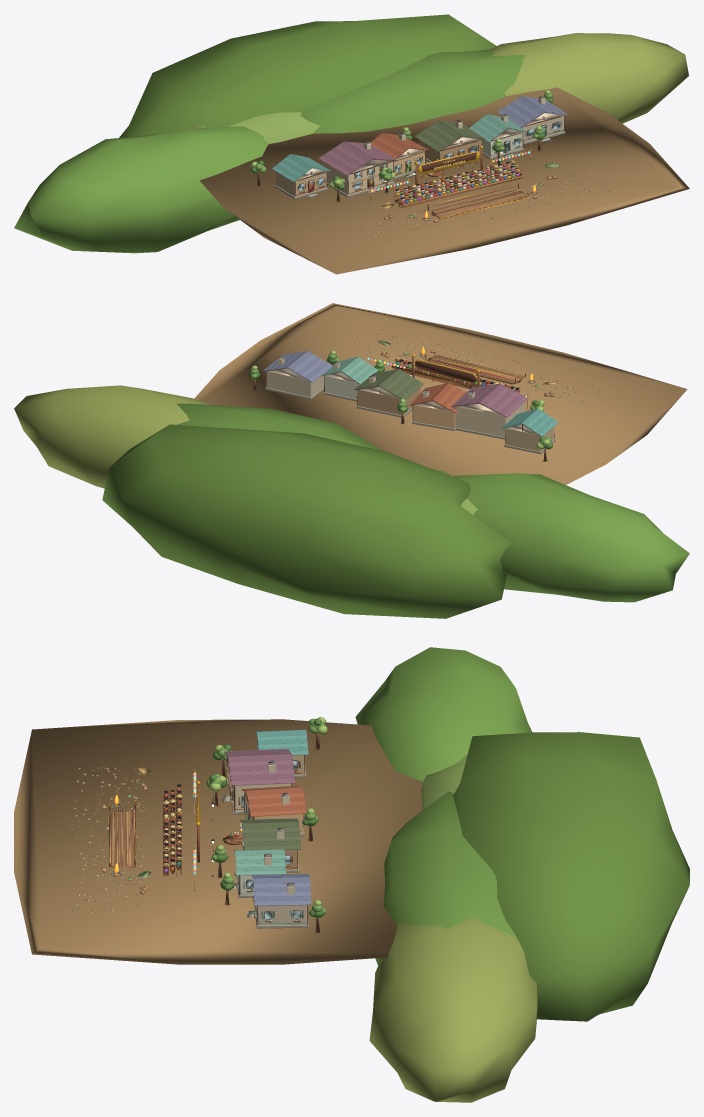
File: plaza.glb
The picture shows the model from 3 angles, top to bottom: view 1: azimuth 30°, elevation 25°; view 2: azimuth 150°, elevation 25°; view 3: azimuth 270°, elevation 25°; orthographic projection. The views are drawn at different scales.
Visible parts, largest first — view 1: estatico 0, estatico 2, estatico 1; view 2: estatico 0, estatico 2; view 3: estatico 0, estatico 2.
Boxes of the visible parts, <box> form: estatico 0: <box>14,14,689,274</box>; estatico 2: <box>272,96,567,181</box>; estatico 1: <box>299,116,559,190</box>; estatico 0: <box>14,303,689,618</box>; estatico 2: <box>262,351,558,436</box>; estatico 0: <box>14,647,689,1102</box>; estatico 2: <box>224,729,311,905</box>.
Bounding box in the file's own units: 137 × 27.87 × 93.45.
